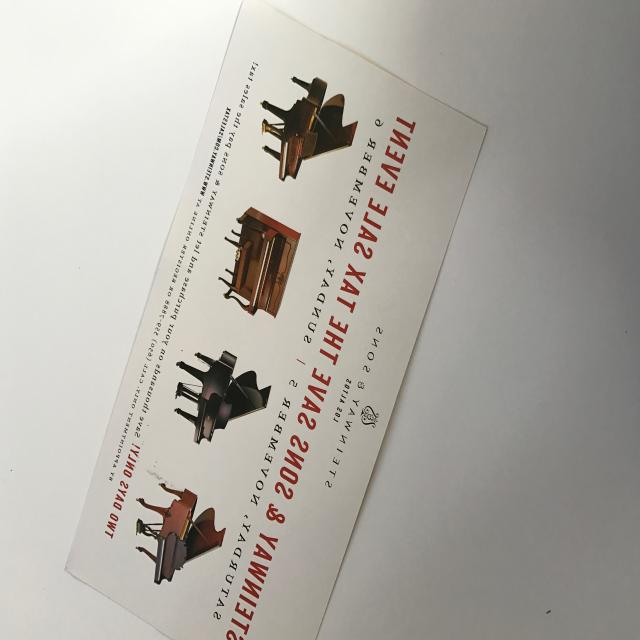paper: (56, 0, 507, 640)
